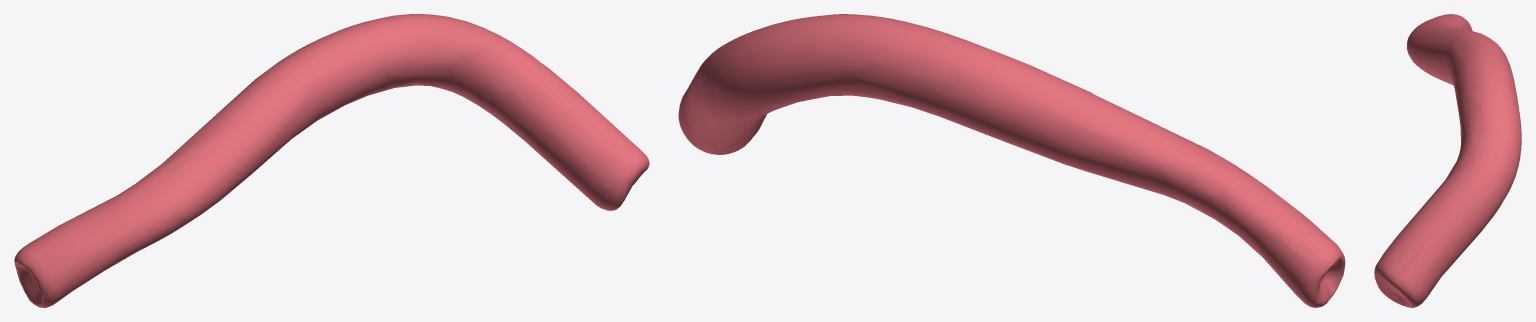
The model's file is fma3953.glb.
3 renders of one model, left to right at view 1: azimuth 30°, elevation 25°; view 2: azimuth 150°, elevation 25°; view 3: azimuth 270°, elevation 25°, orthographic. The views are drawn at different scales.
Visible parts, largest first — view 1: FMA3953; view 2: FMA3953; view 3: FMA3953.
Boxes of the visible parts, x1,y1,x2,y2 form: FMA3953: (14,14,649,307); FMA3953: (678,14,1345,307); FMA3953: (1374,14,1521,307).
Bounding box in the file's own units: 0.0726 × 0.0226 × 0.0183.
